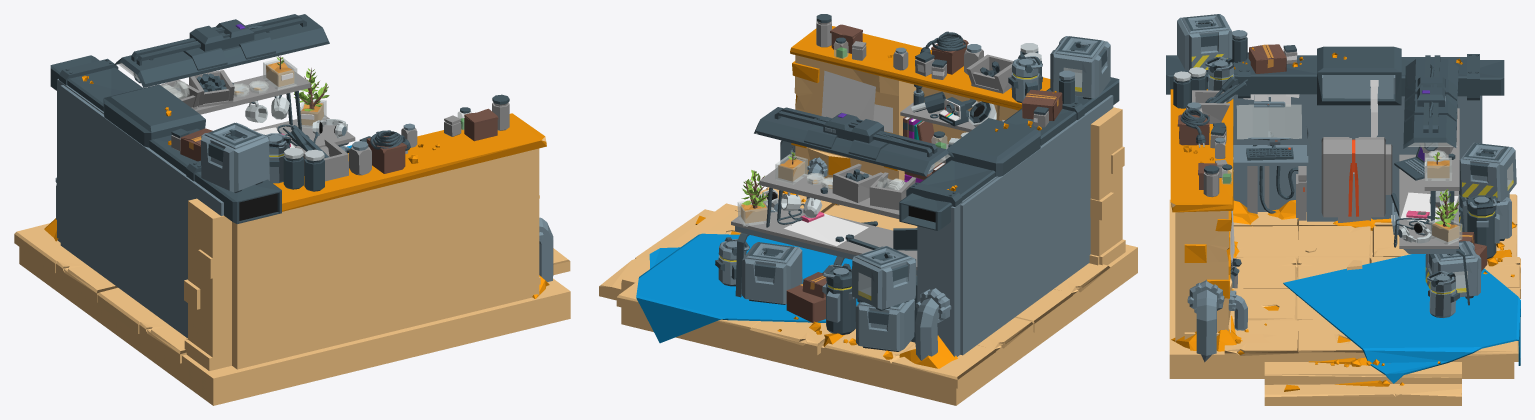
Rendered from room.c427673f.obj.
The picture shows the model from 3 angles, left to right: view 1: azimuth 30°, elevation 25°; view 2: azimuth 150°, elevation 25°; view 3: azimuth 270°, elevation 25°; orthographic projection. The views are drawn at different scales.
Visible parts, largest first — view 1: group1763104299, group1100343911, group987980187, group286800131, group259666405, group337026695, group166672997, group61219957, group2022069560, group389696598, group101322500, group92703077 (+23 smaller); view 2: group1100343911, group1899386574, group987980187, group286800131, group259666405, group337026695, group1819965688, group177251386, group61219957, group707679182, group1482947389, group975002159 (+42 smaller); view 3: group1899386574, group177251386, group1451214769, group1024795164, group61219957, group286800131, group987980187, group1819965688, group1048239680, group954819432, group337026695, group1557021028 (+49 smaller).
Boxes of the visible parts, x1,y1,x2,y2 form: group1763104299: (232, 148, 539, 369); group1100343911: (60, 85, 223, 338); group987980187: (19, 247, 570, 405); group286800131: (114, 14, 329, 87); group259666405: (184, 198, 231, 370); group337026695: (273, 113, 546, 211); group166672997: (201, 122, 269, 192); group61219957: (103, 84, 205, 147); group2022069560: (194, 171, 281, 224); group389696598: (59, 58, 143, 111); group101322500: (14, 223, 75, 272); group92703077: (195, 72, 310, 114); group1100343911: (960, 95, 1113, 355); group1899386574: (636, 233, 858, 343); group987980187: (621, 244, 1137, 405); group286800131: (754, 107, 953, 176); group259666405: (996, 105, 1125, 265); group337026695: (790, 26, 1050, 110); group1819965688: (791, 55, 916, 181); group177251386: (917, 145, 1040, 356); group61219957: (945, 118, 1040, 176); group707679182: (852, 246, 916, 310); group1482947389: (742, 242, 802, 304); group975002159: (731, 201, 917, 275); group1899386574: (1283, 254, 1520, 383); group177251386: (1307, 75, 1482, 221); group1451214769: (1321, 137, 1392, 220); group1024795164: (1231, 257, 1397, 320); group61219957: (1317, 46, 1401, 105); group286800131: (1403, 55, 1458, 150); group987980187: (1169, 199, 1514, 378); group1819965688: (1184, 211, 1232, 339); group1048239680: (1233, 101, 1308, 165); group954819432: (1264, 384, 1461, 405); group337026695: (1170, 89, 1233, 212); group1557021028: (1264, 362, 1461, 384).
Size of the model in its own units: 3.66 by 2.15 by 3.06.
